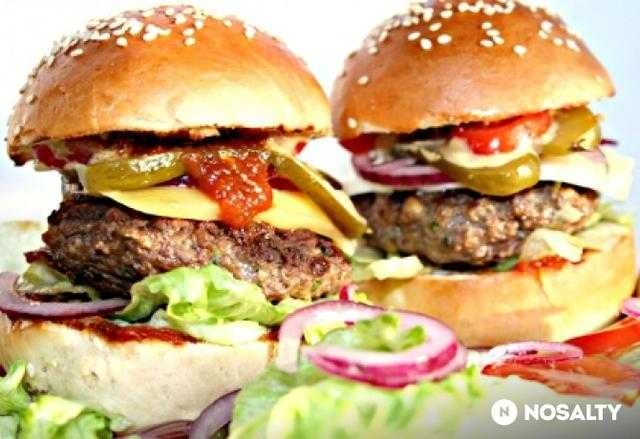hamburger: (3, 9, 335, 399), (339, 3, 620, 342)
